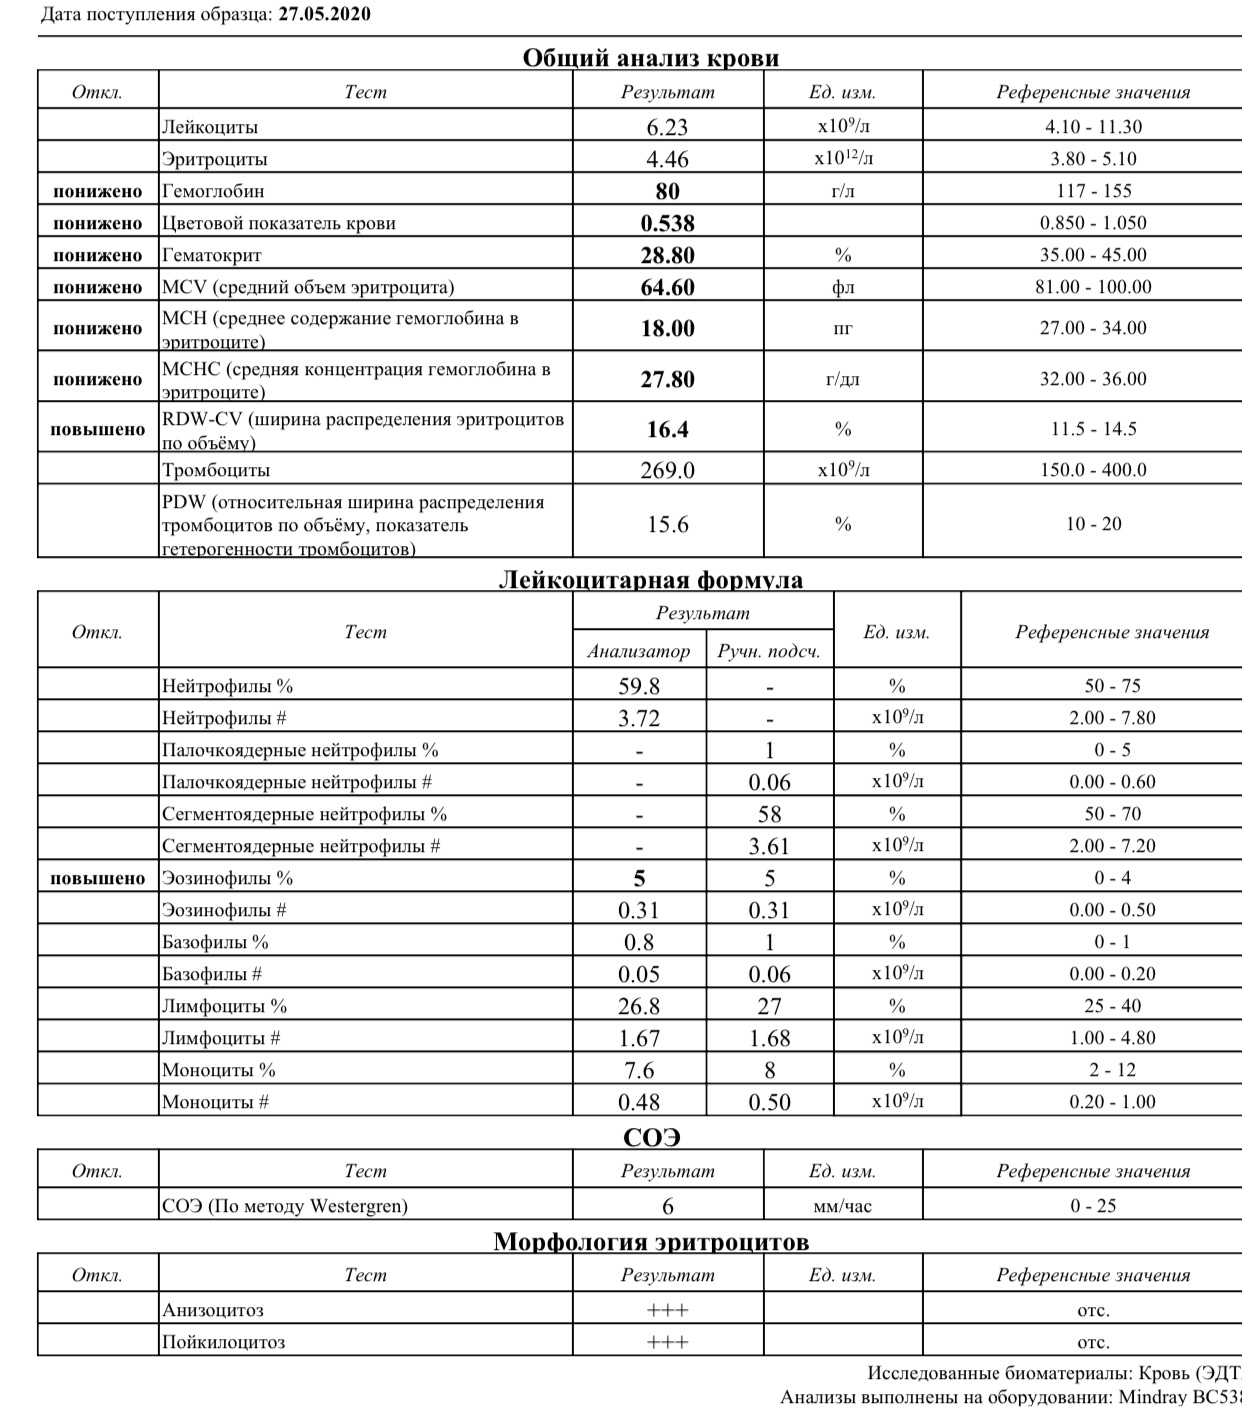column: (161, 69, 565, 557), (161, 590, 448, 1115), (1013, 590, 1209, 1115), (995, 69, 1191, 557), (584, 629, 692, 1115), (715, 629, 820, 1115), (49, 590, 146, 1115), (618, 69, 716, 557), (49, 69, 146, 557), (861, 590, 931, 1115), (806, 69, 877, 557), (161, 1253, 387, 1355), (995, 1253, 1191, 1355), (161, 1150, 408, 1220), (995, 1150, 1191, 1220), (618, 1253, 716, 1355), (806, 1253, 876, 1355), (618, 1150, 715, 1220), (70, 1253, 122, 1355), (806, 1150, 876, 1220), (70, 1150, 122, 1220)
